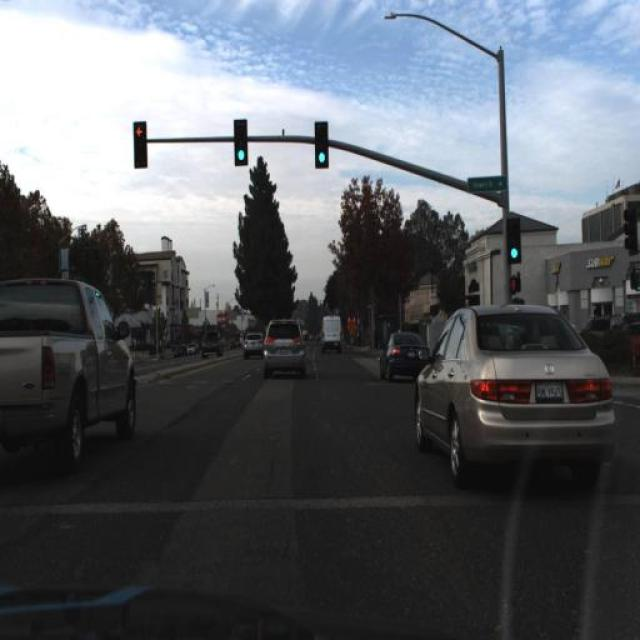car: (410, 296, 620, 496), (0, 243, 141, 502), (254, 308, 312, 388), (376, 323, 432, 389), (316, 306, 350, 360), (240, 319, 266, 369), (198, 324, 226, 364), (320, 312, 344, 348), (242, 324, 262, 365), (186, 341, 198, 355), (175, 343, 186, 358)
trafficLight-Green: (129, 115, 152, 171), (230, 114, 251, 172), (311, 115, 331, 173), (508, 219, 520, 265)
trafficLight-GreenLeft: (504, 211, 524, 270)
